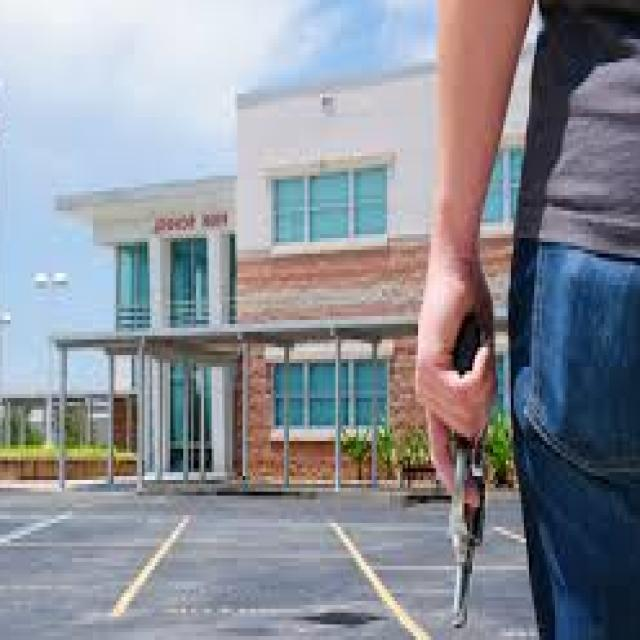gun: (416, 296, 509, 640)
